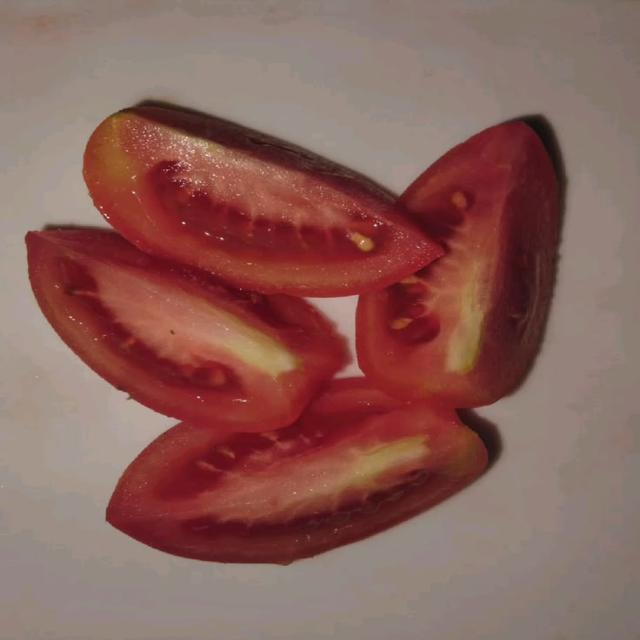sliced tomatoe: (107, 379, 486, 564), (84, 107, 441, 296), (27, 231, 347, 431), (357, 122, 558, 407)
